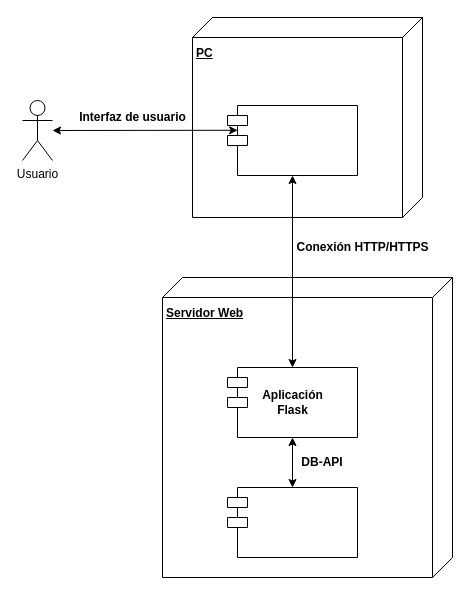
Image size: 470x595. Some labels were removed from this diagram. The box of each missing label's shape, as (x1, y1, x2, y2) in pixels:
Navegador Web: (226, 104, 358, 176)
SQLite: (226, 486, 358, 558)
